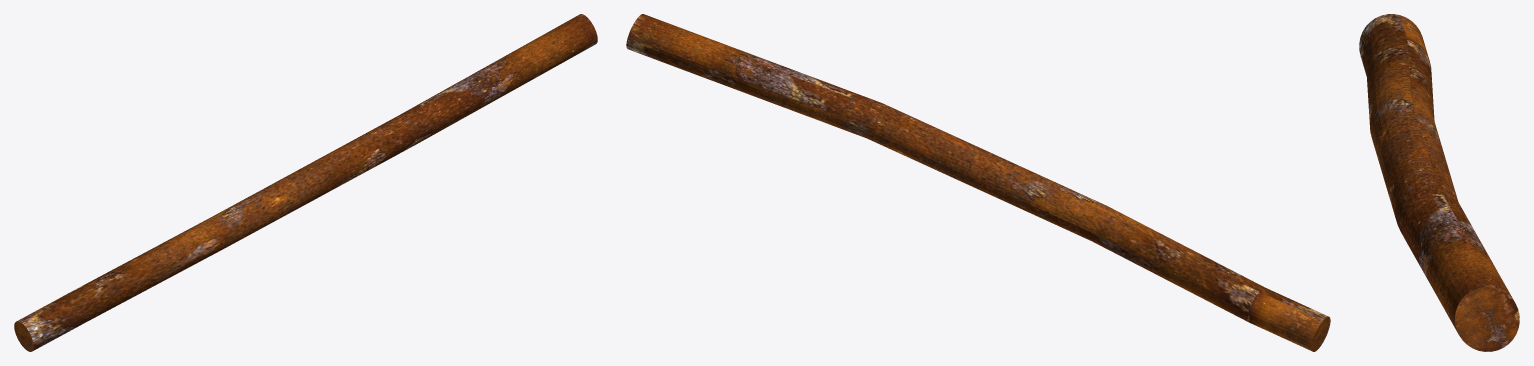
File: FierroRoca.fbx
3 views of the same model, side by side, from view 1: azimuth 30°, elevation 25°; view 2: azimuth 150°, elevation 25°; view 3: azimuth 270°, elevation 25° (orthographic). The views are drawn at different scales.
Visible parts, largest first — view 1: Cylinder.005; view 2: Cylinder.005; view 3: Cylinder.005.
Boxes of the visible parts, box(x1,y1,x2,y2) form: Cylinder.005: box(14, 14, 597, 351); Cylinder.005: box(626, 14, 1330, 351); Cylinder.005: box(1359, 14, 1519, 351).
Bounding box in the file's own units: 799 × 225 × 96.86.
